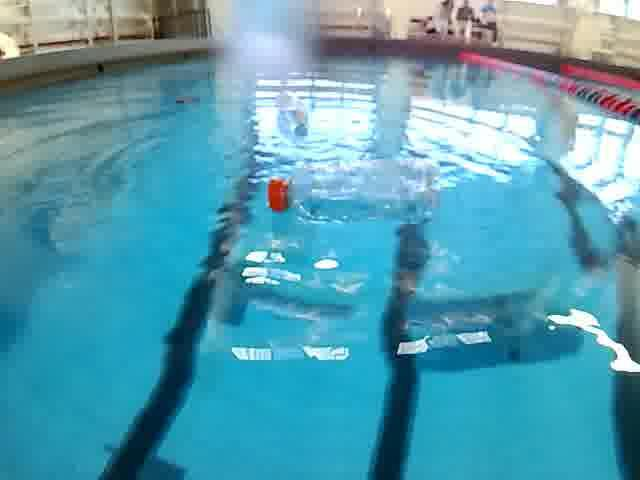Bottle: (263, 154, 445, 230)
